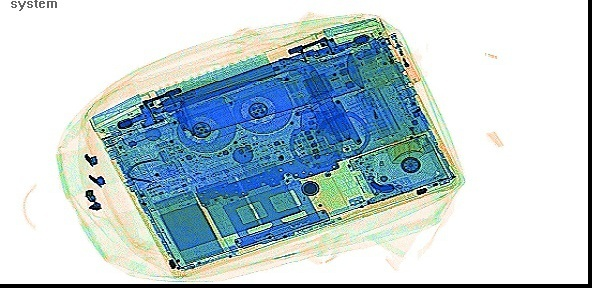handcuffs: (289, 99, 372, 167)
lighter: (388, 30, 422, 84)
pressure: (171, 51, 365, 136), (354, 43, 423, 163)
